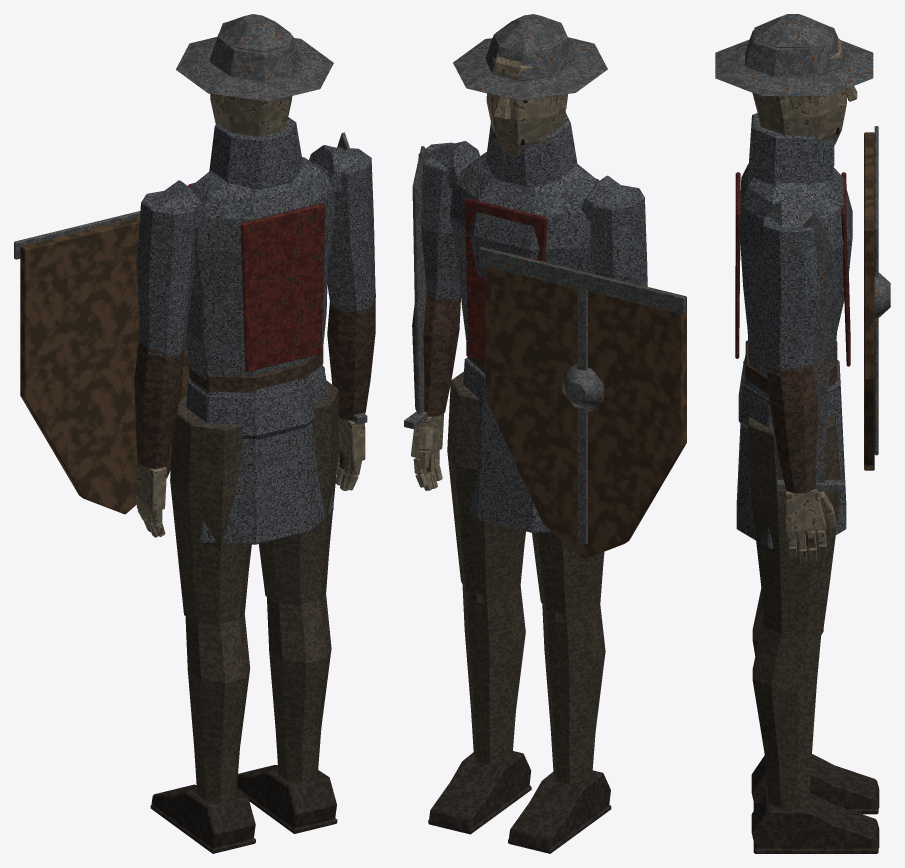
The model's file is knecht.glb.
3 renders of one model, left to right at view 1: azimuth 30°, elevation 25°; view 2: azimuth 150°, elevation 25°; view 3: azimuth 270°, elevation 25°, orthographic.
Parts seen in each view (by area): view 1: tarcza, tors, miednica, glowa, udo_l, golen_l, golen_p, ramie_l, ramie_p, udo_p, przedramie_l, stopa_l (+4 smaller); view 2: tarcza, glowa, tors, golen_l, golen_p, udo_p, miednica, ramie_l, ramie_p, stopa_l, stopa_p, udo_l (+3 smaller); view 3: glowa, udo_p, tors, golen_p, ramie_p, stopa_p, tarcza, przedramie_p, miednica, bron, stopa_l, dlon_p (+1 smaller).
Part boxes in pixels (left/top/right/bottom): tarcza: left=14, top=211, right=190, bottom=514; tors: left=186, top=157, right=335, bottom=380; miednica: left=186, top=347, right=333, bottom=544; glowa: left=176, top=14, right=333, bottom=189; udo_l: left=170, top=396, right=251, bottom=625; golen_l: left=185, top=613, right=250, bottom=802; golen_p: left=267, top=593, right=331, bottom=782; ramie_l: left=136, top=180, right=206, bottom=357; ramie_p: left=309, top=145, right=375, bottom=312; udo_p: left=259, top=380, right=338, bottom=605; przedramie_l: left=134, top=341, right=183, bottom=469; stopa_l: left=150, top=784, right=255, bottom=853; tarcza: left=479, top=247, right=686, bottom=558; glowa: left=453, top=14, right=607, bottom=187; tors: left=450, top=152, right=599, bottom=359; golen_l: left=542, top=604, right=605, bottom=784; golen_p: left=462, top=585, right=525, bottom=765; udo_p: left=447, top=371, right=525, bottom=603; miednica: left=463, top=340, right=550, bottom=532; ramie_l: left=581, top=175, right=647, bottom=286; ramie_p: left=418, top=141, right=480, bottom=301; stopa_l: left=508, top=770, right=611, bottom=853; stopa_p: left=428, top=751, right=531, bottom=834; udo_l: left=532, top=531, right=604, bottom=622; glowa: left=715, top=14, right=873, bottom=185; udo_p: left=748, top=414, right=840, bottom=634; tors: left=735, top=163, right=852, bottom=376; golen_p: left=752, top=618, right=821, bottom=808; ramie_p: left=762, top=199, right=820, bottom=376; stopa_p: left=751, top=791, right=879, bottom=853; tarcza: left=864, top=126, right=890, bottom=470; przedramie_p: left=767, top=364, right=818, bottom=493; miednica: left=736, top=340, right=846, bottom=548; bron: left=777, top=211, right=844, bottom=547; stopa_l: left=751, top=754, right=879, bottom=814; dlon_p: left=785, top=489, right=836, bottom=562.
Bounding box in the file's own units: 0.7512 × 1.84 × 0.3624.
Materials: 9 (9 with a texture image).
